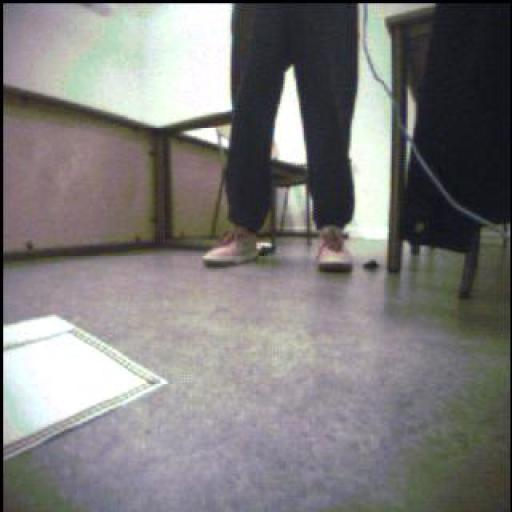Pad: (2, 307, 183, 472)
